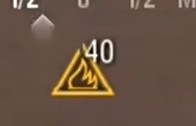1fire: (40, 63, 121, 98)
